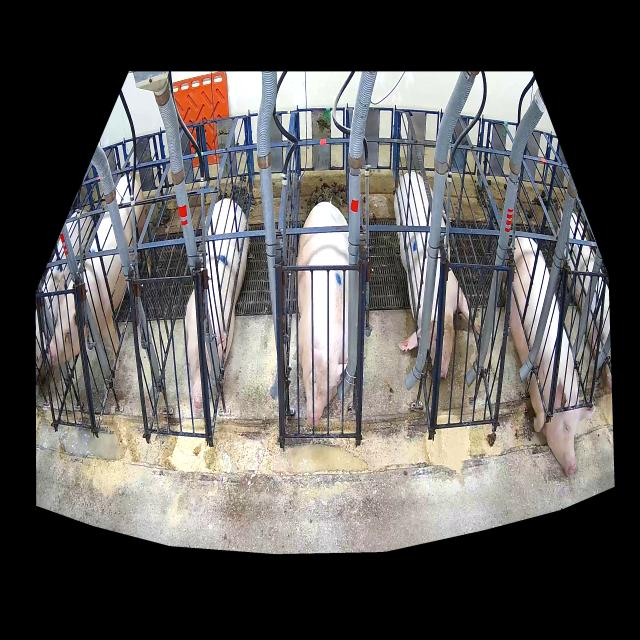pig: (509, 237, 596, 478), (50, 177, 152, 370), (394, 172, 469, 379), (185, 198, 249, 409), (298, 202, 348, 427)
